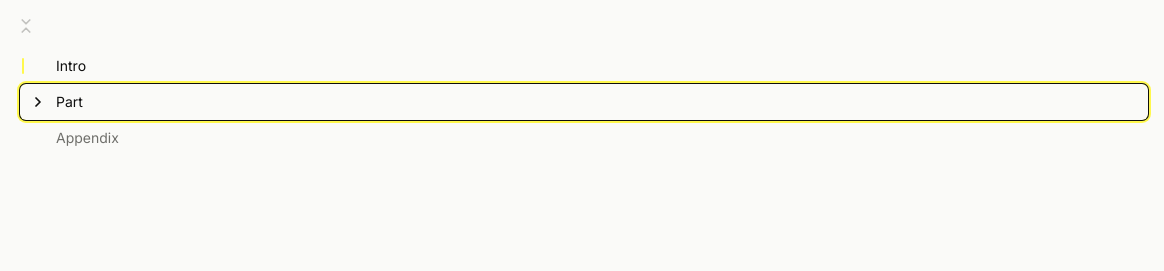
Test: Outline tree › collapses everything with the title-row button
Expected: the element named "Document outline" is shown, [20,48,1148,156]
Press Arrowright
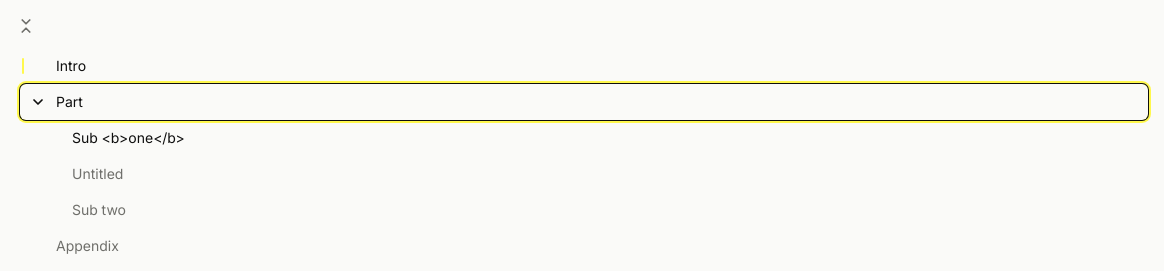
Expected: the number of list items is 6, [22,57,86,74]; [20,84,1148,120]; [72,129,185,146]; [72,165,123,182]; [72,201,126,218]; [56,237,119,254]
Click the button named "Collapse all" at (26,26), box [12,12,40,40]
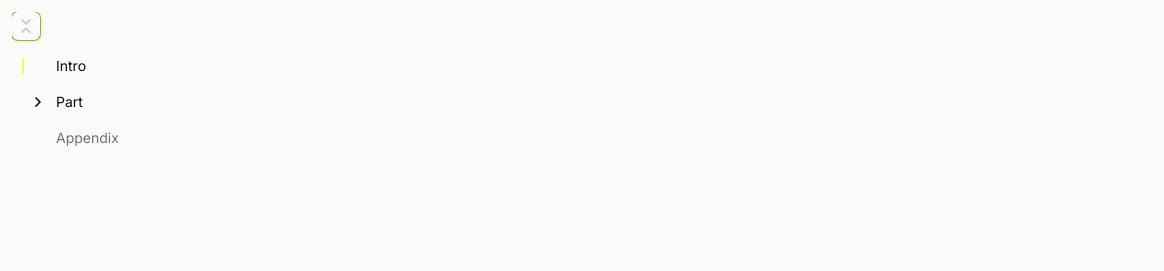
Expected: the number of list items is 3, [22,57,86,74]; [30,93,83,110]; [56,129,119,146]
